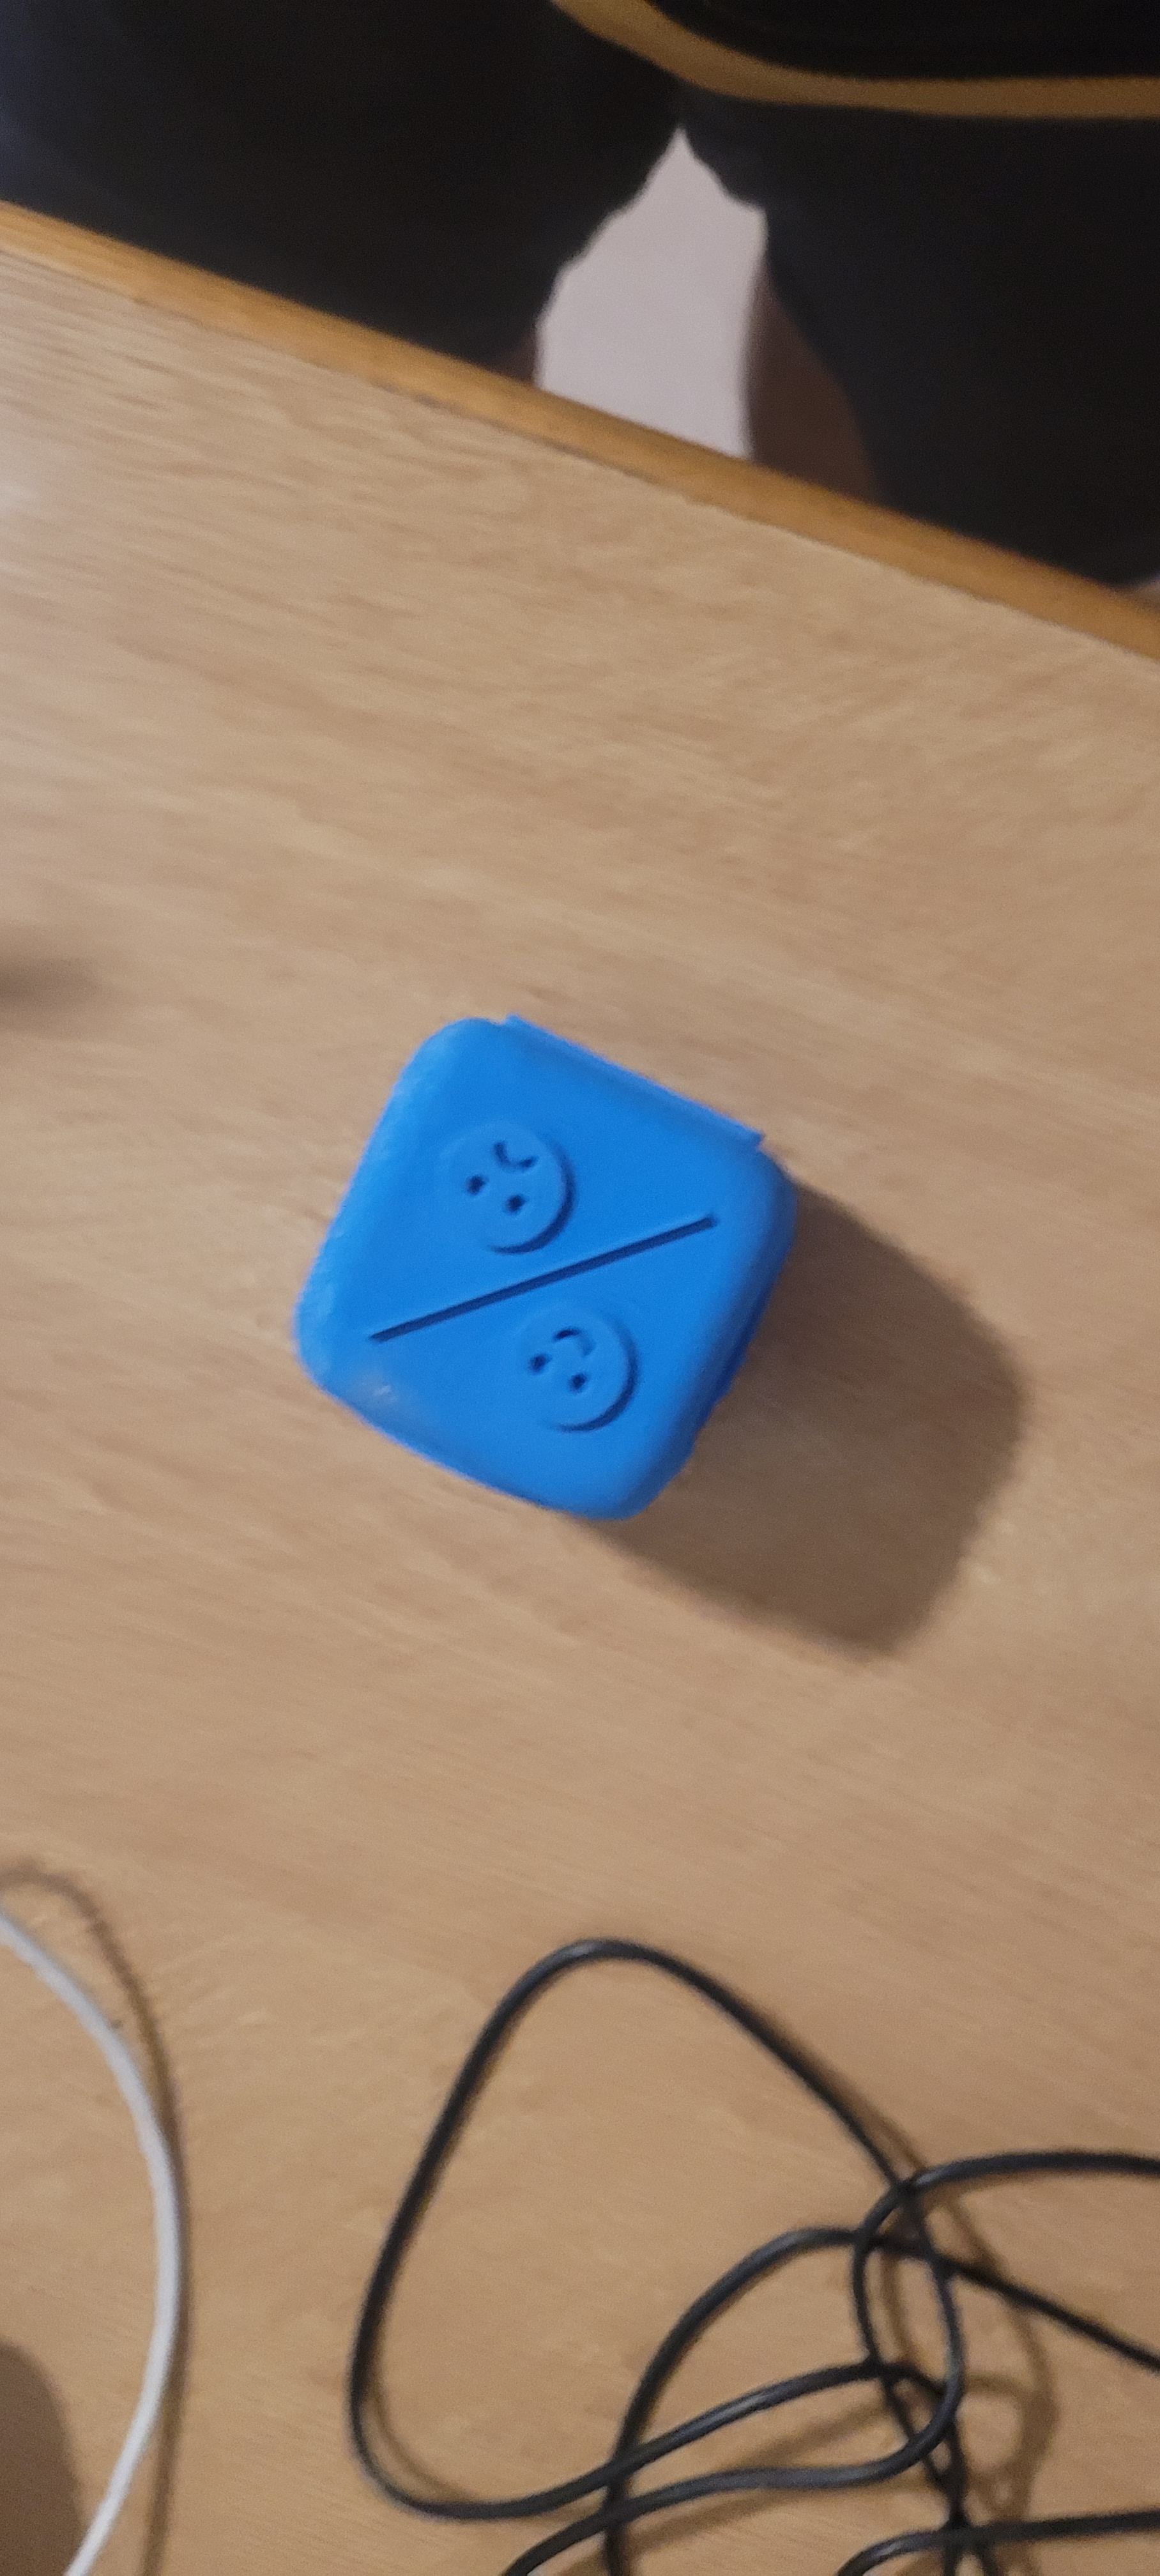Like/Dislike: (314, 1001, 764, 1503)
